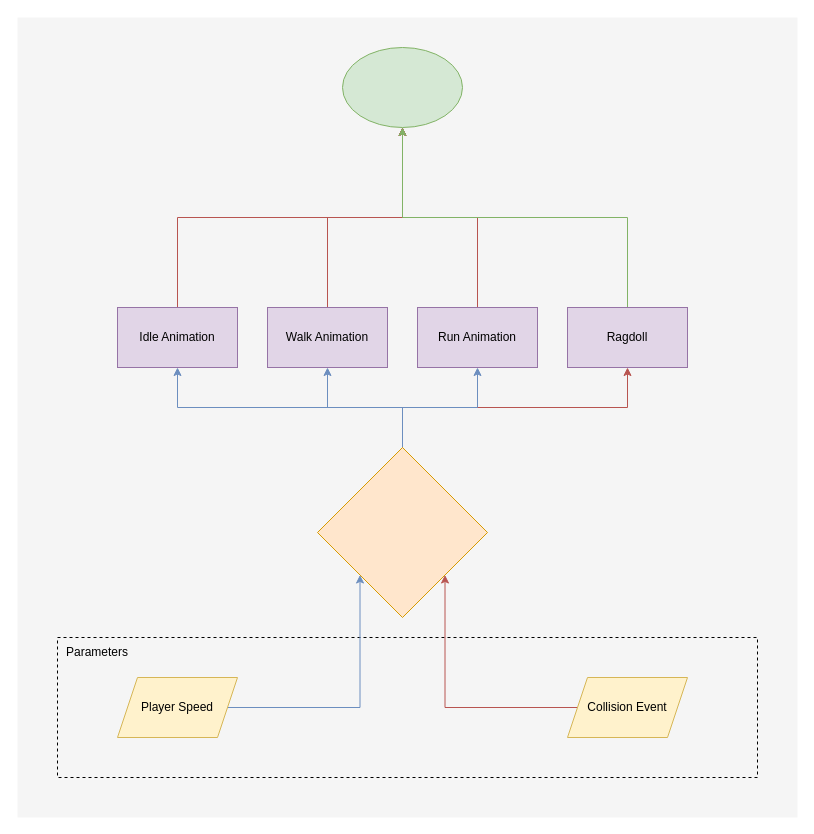
Some shapes in this 814 by 834 pixel diagram are drawn without their labels. Here are the shapes that lost their labels. From the top down, the centre of each, then its label:
At pixel 402 87: "Played animation".
At pixel 402 532: "Animation Selector".
